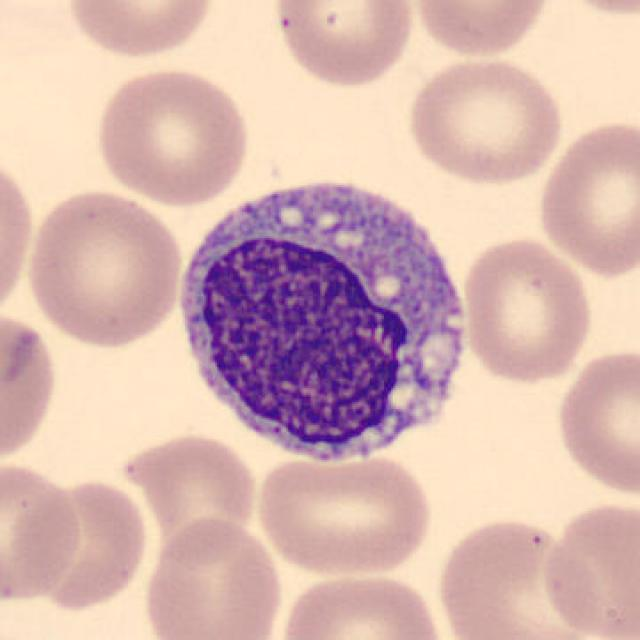Monocyte: (165, 158, 482, 480)
RBC: (22, 183, 188, 351), (251, 448, 439, 580), (89, 64, 254, 208), (431, 513, 614, 640), (402, 51, 567, 189), (458, 235, 596, 386), (14, 474, 155, 616), (139, 513, 286, 640), (116, 428, 262, 546), (534, 115, 638, 280), (535, 495, 638, 640), (268, 0, 419, 90), (551, 344, 638, 499), (0, 456, 85, 606), (274, 567, 448, 640), (0, 305, 60, 469), (62, 0, 219, 62), (409, 0, 555, 60), (0, 148, 37, 326), (544, 0, 638, 19)
